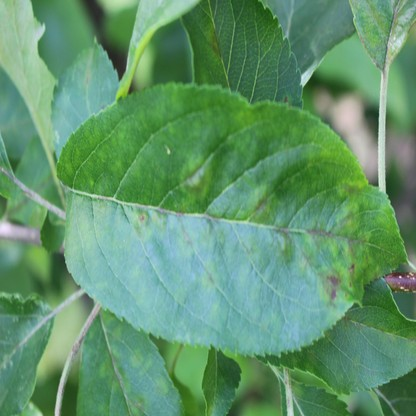scab: (299, 181, 382, 306), (68, 200, 110, 255), (351, 0, 386, 49), (180, 153, 212, 201), (100, 345, 131, 393), (247, 180, 278, 223), (132, 207, 166, 241), (172, 211, 194, 254), (275, 231, 295, 263), (89, 312, 115, 336), (207, 23, 222, 62), (202, 262, 216, 290), (129, 394, 145, 414), (130, 345, 143, 367), (155, 374, 169, 394), (281, 94, 293, 109), (406, 332, 416, 349)
